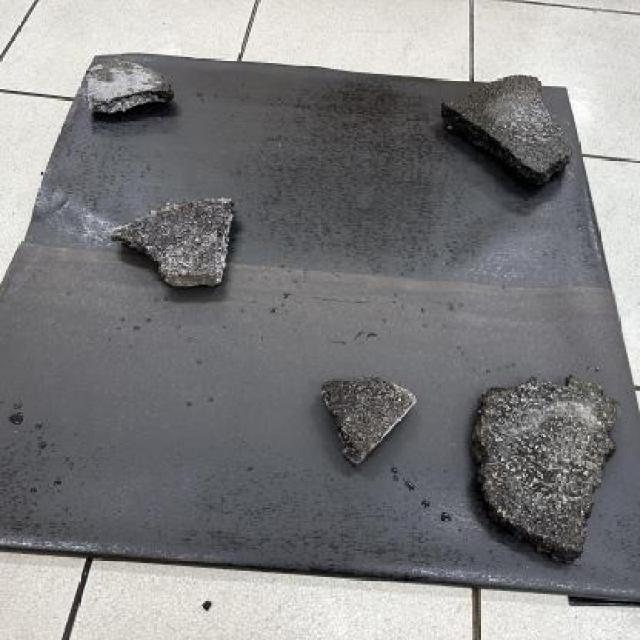Road Debris: (480, 440, 608, 552), (477, 105, 566, 183), (320, 374, 386, 460), (117, 201, 231, 244), (90, 54, 168, 91)
